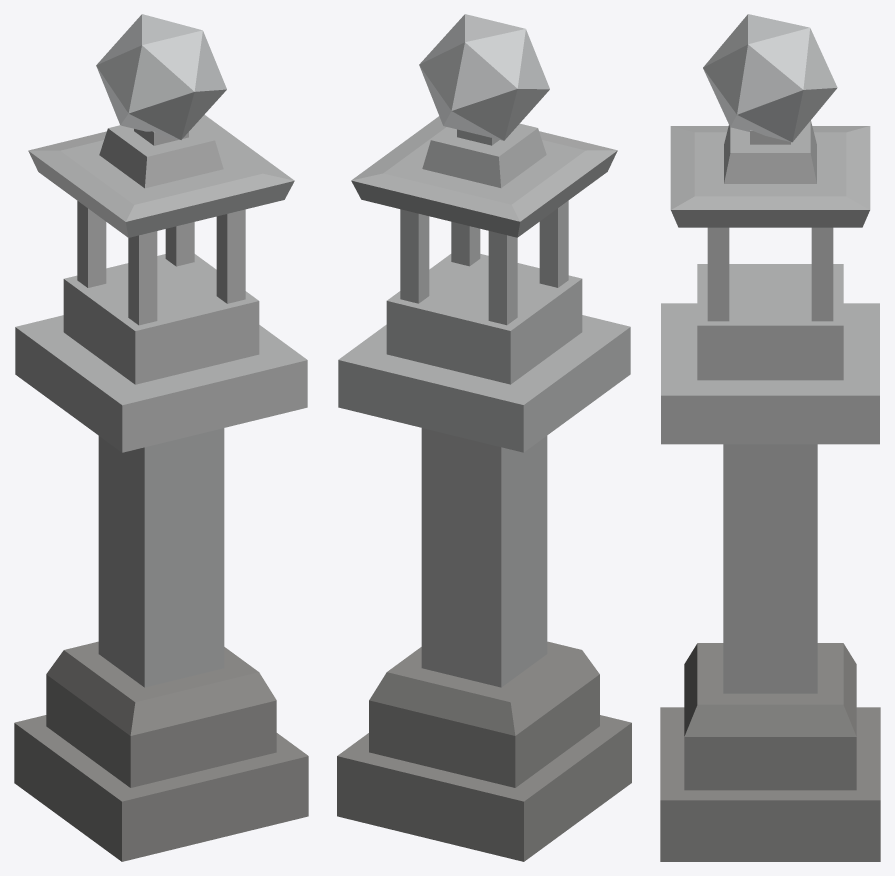
Rendered from totem_1.fbx.
The picture shows the model from 3 angles, left to right: view 1: azimuth 30°, elevation 25°; view 2: azimuth 150°, elevation 25°; view 3: azimuth 270°, elevation 25°; orthographic projection. The views are drawn at different scales.
Visible parts, largest first — view 1: totem_1; view 2: totem_1; view 3: totem_1.
Boxes of the visible parts, bbox=[...] form: totem_1: bbox=[14, 14, 308, 861]; totem_1: bbox=[337, 14, 631, 861]; totem_1: bbox=[660, 14, 880, 861].
Bounding box in the file's own units: 62.56 × 247 × 62.56.
